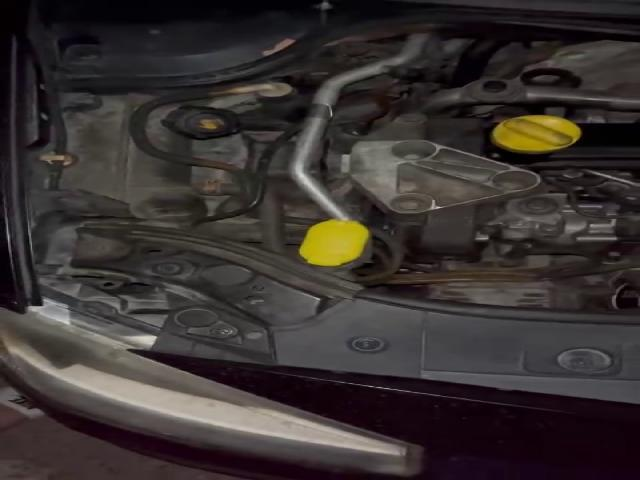antifreeze_tank: (60, 93, 243, 228), (146, 105, 247, 168)
